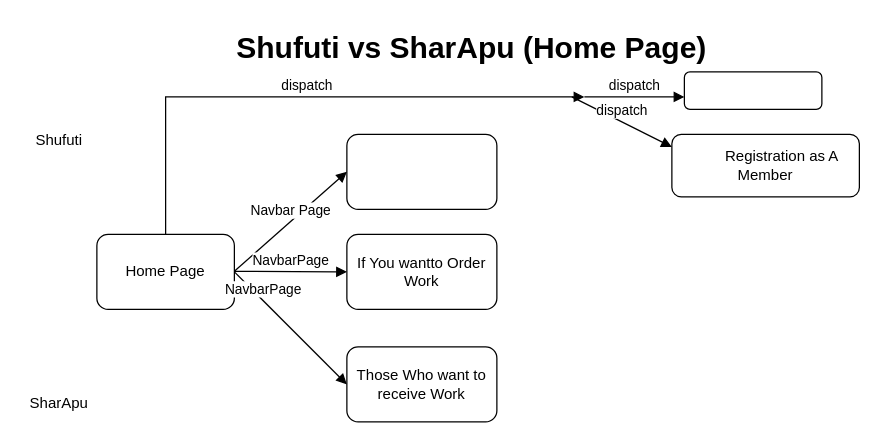
Image size: 881x444. Some labels were removed from this diagram. Each missing label, with the centre of its shape:
LogIn: the point at 752,90
Search For A Job Page: the point at 421,171
